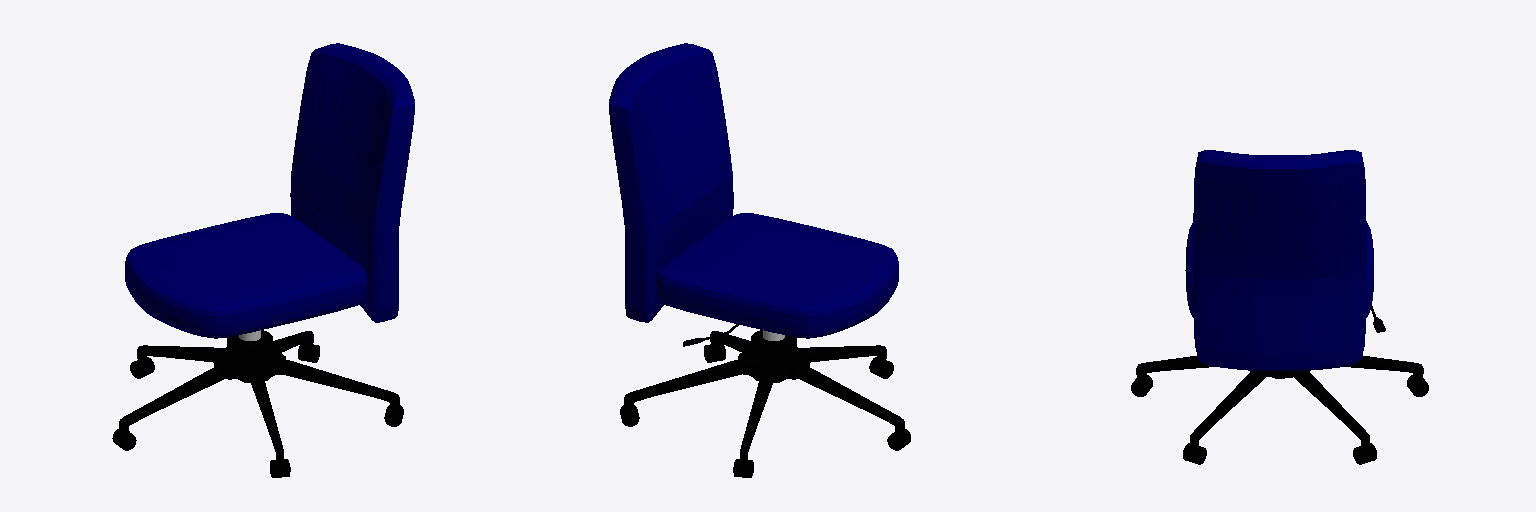
File: blueOfficeChair.obj
3 views of the same model, side by side, from view 1: azimuth 30°, elevation 25°; view 2: azimuth 150°, elevation 25°; view 3: azimuth 270°, elevation 25° (orthographic).
Visible parts, largest first — view 1: Cube.069, Chair, Cylinder.002; view 2: Cube.069, Chair, Cylinder.002; view 3: Cube.069, Cylinder.002, Chair.
Part boxes in pixels (left/top/right/bottom): Cube.069: left=290, top=43, right=414, bottom=322; Chair: left=125, top=213, right=367, bottom=338; Cylinder.002: left=112, top=330, right=403, bottom=477; Cube.069: left=609, top=43, right=733, bottom=322; Chair: left=656, top=213, right=898, bottom=338; Cylinder.002: left=620, top=330, right=910, bottom=477; Cube.069: left=1193, top=150, right=1366, bottom=370; Cylinder.002: left=1131, top=356, right=1428, bottom=464; Chair: left=1185, top=223, right=1373, bottom=317.
Bounding box in the file's own units: 2.54 × 2.78 × 2.35.